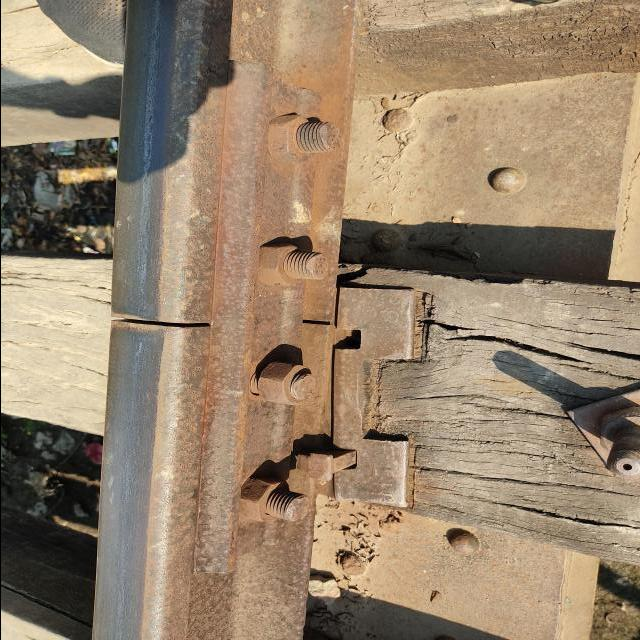squats_medium: (309, 278, 406, 514)
